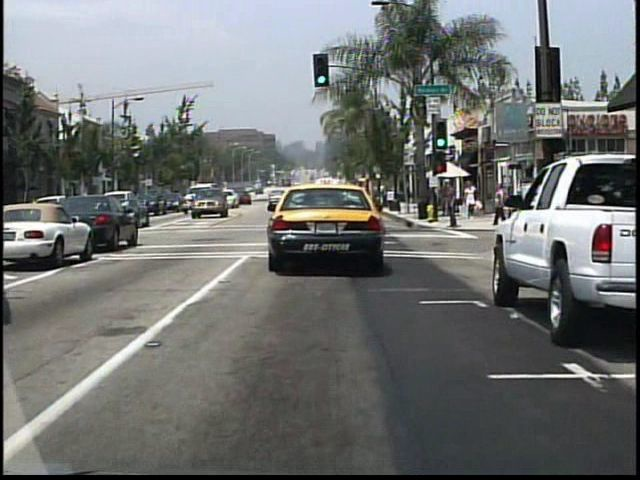person: (446, 182, 462, 232), (465, 180, 479, 219), (439, 182, 453, 218)
